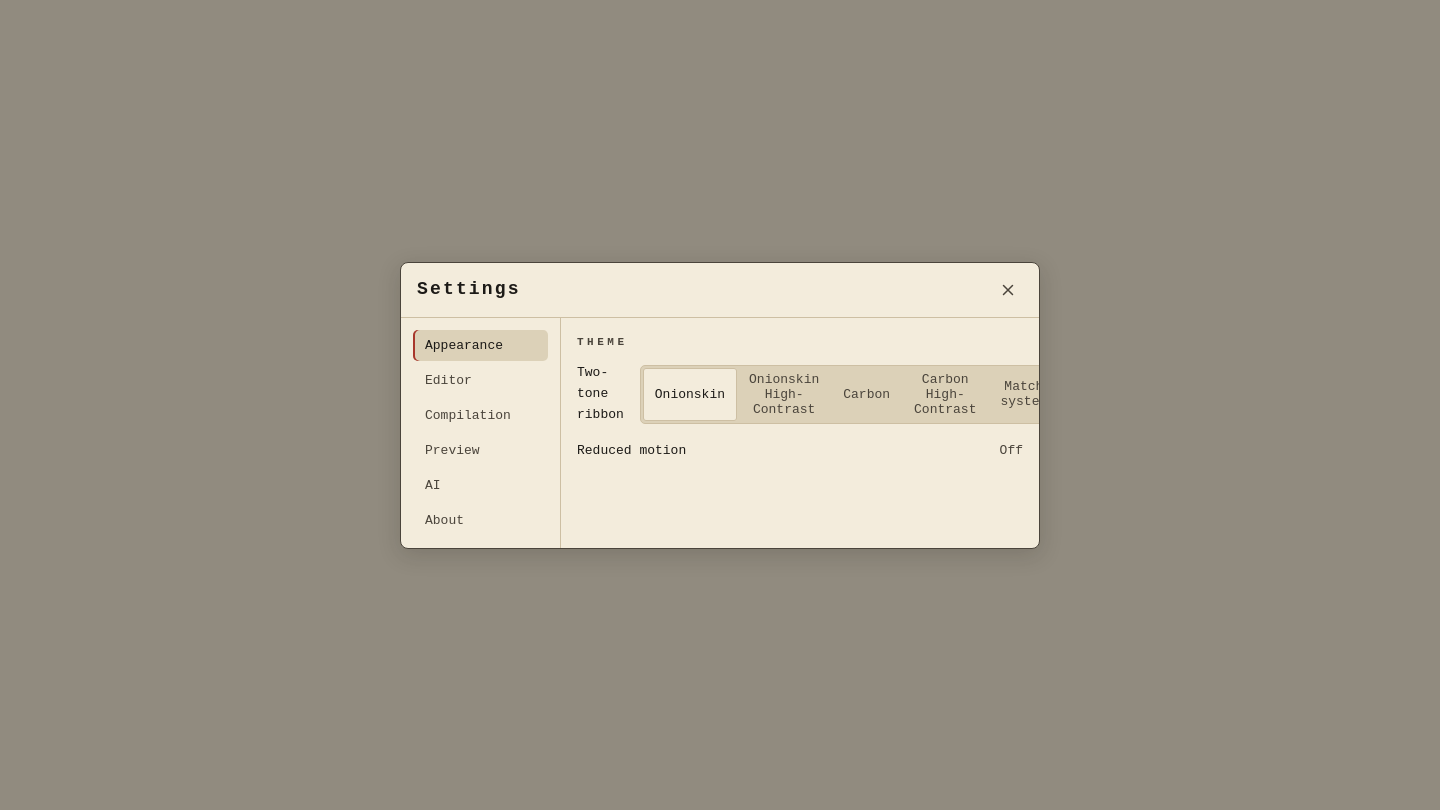
Settings — AI section › shows the AI settings panel when AI section is selected
Click the button "AI" at (480, 485), box [413, 470, 548, 500]
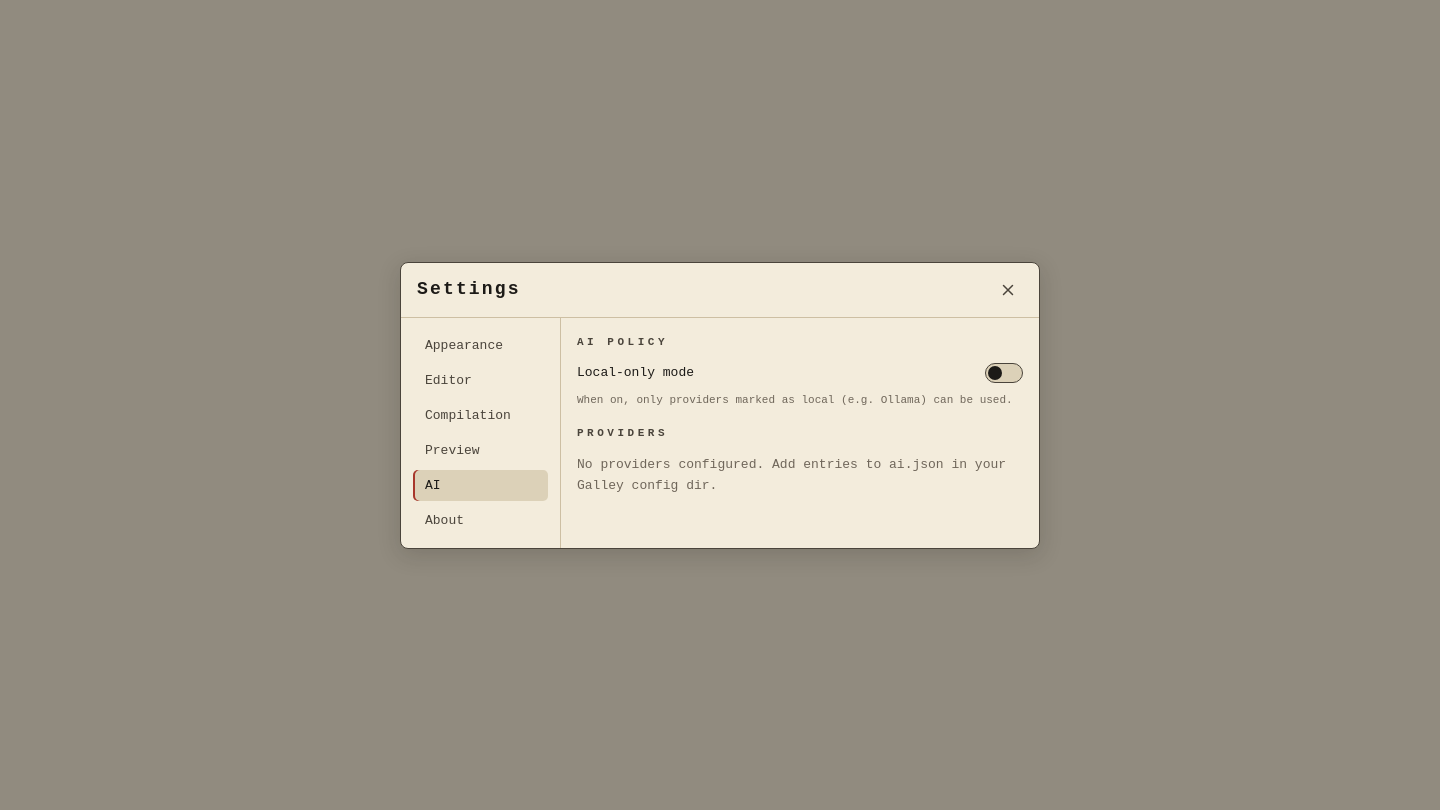
Expected: the heading "AI policy" is shown, [577, 336, 668, 348]
